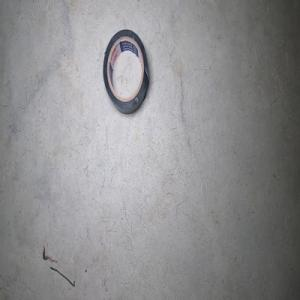Tape: (102, 29, 149, 114)
